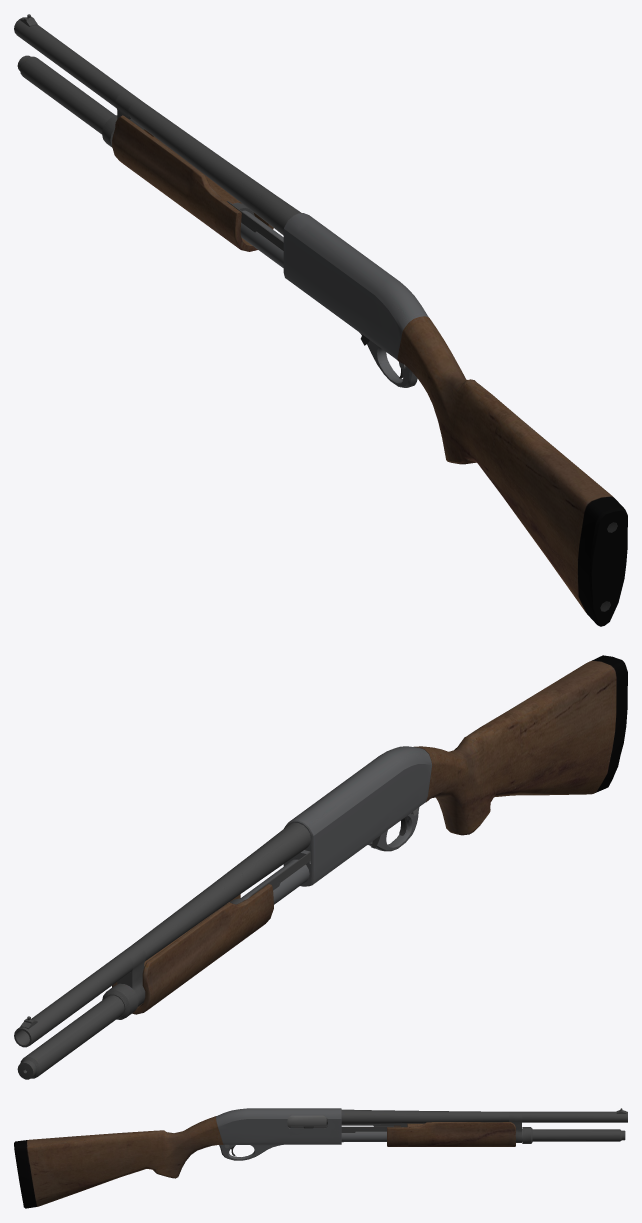
The model's file is shotgun.glb.
3 views of the same model, one above another, from view 1: azimuth 30°, elevation 25°; view 2: azimuth 150°, elevation 25°; view 3: azimuth 270°, elevation 25° (orthographic). The views are drawn at different scales.
Parts seen in each view (by area): view 1: slide_sg_mat_0; view 2: slide_sg_mat_0; view 3: slide_sg_mat_0.
Part boxes in pixels (x1,y1,x2,y2): slide_sg_mat_0: (14,14,627,626); slide_sg_mat_0: (14,655,627,1079); slide_sg_mat_0: (14,1108,627,1208).
Bounding box in the file's own units: 0.0382 × 0.1755 × 0.98.
1 material, 1 textured.
